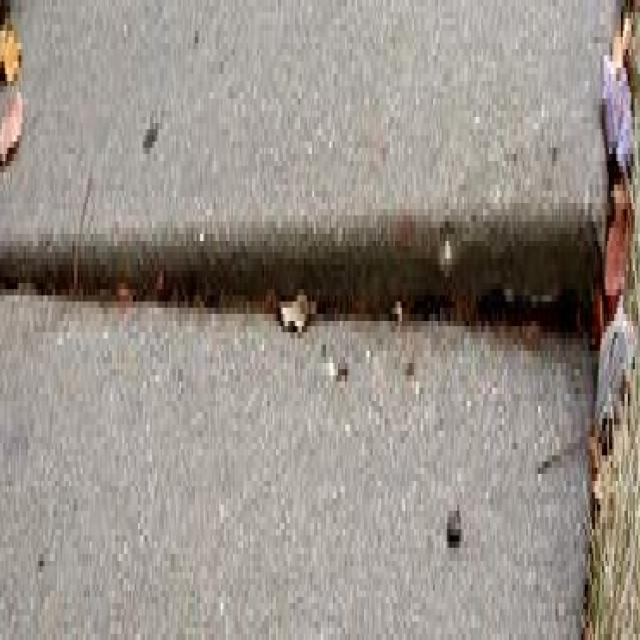bump: (0, 142, 616, 481)
